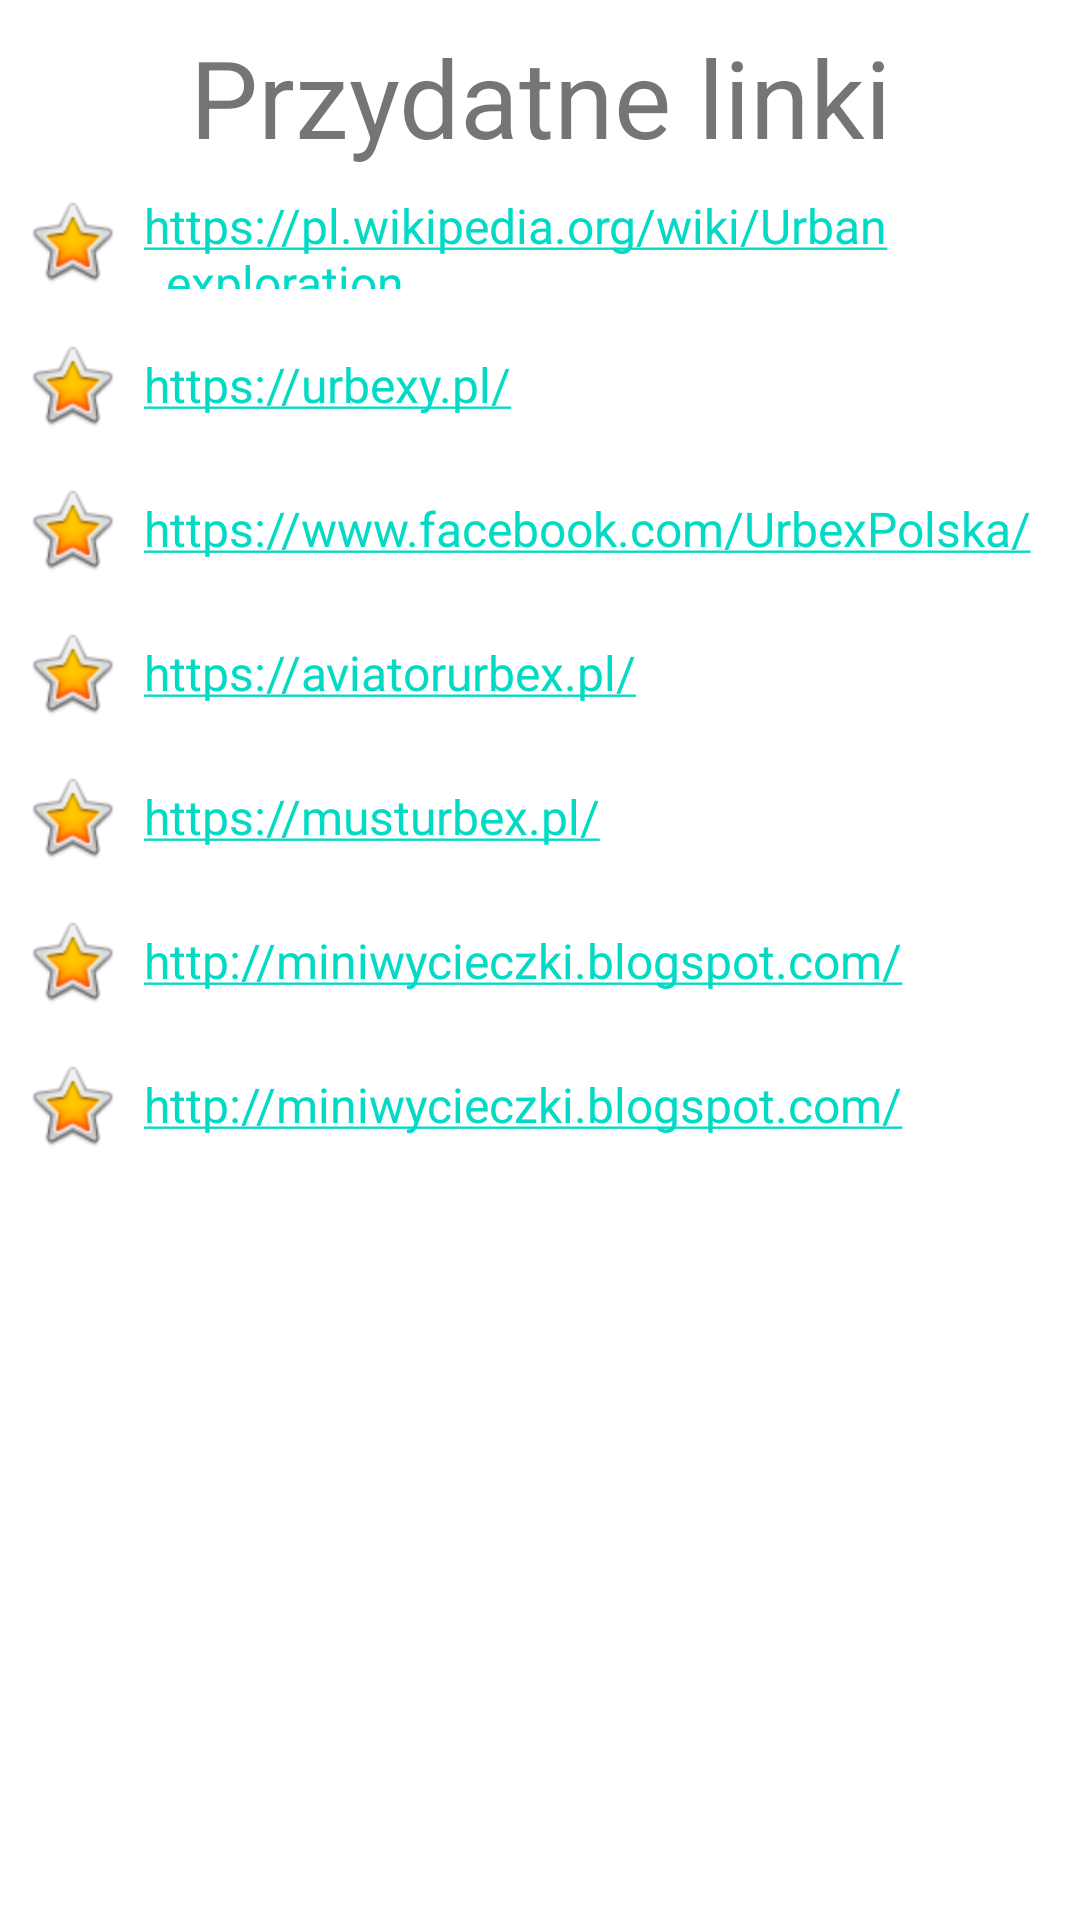

Icon click points for this 1080*1920 phone screenshot, format (x,y):
star on: (73,242), (73,386), (73,530), (73,674), (73,818), (73,962), (73,1106)
